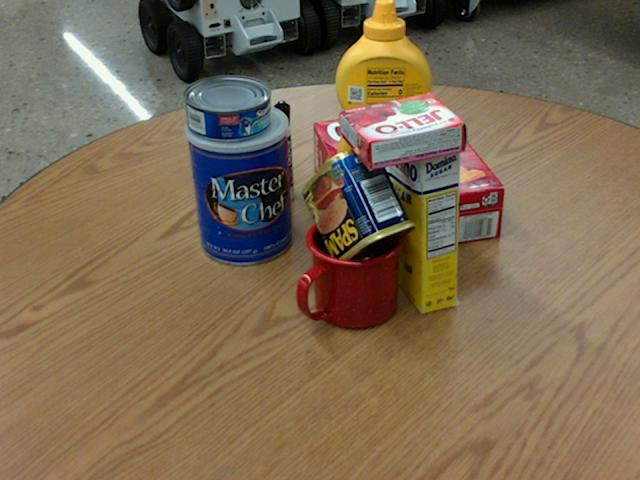cracker_box: (312, 106, 502, 257)
gelatin_box: (340, 92, 465, 169)
large_marker: (273, 102, 293, 202)
master_chef_can: (185, 100, 294, 264)
mug: (293, 212, 403, 330)
mustard_bottle: (336, 0, 431, 191)
potted_meat_can: (301, 145, 416, 271)
sugar_box: (381, 106, 459, 315)
tomato_soup_can: (356, 40, 416, 146)
tuna_fish_can: (182, 75, 270, 140)
